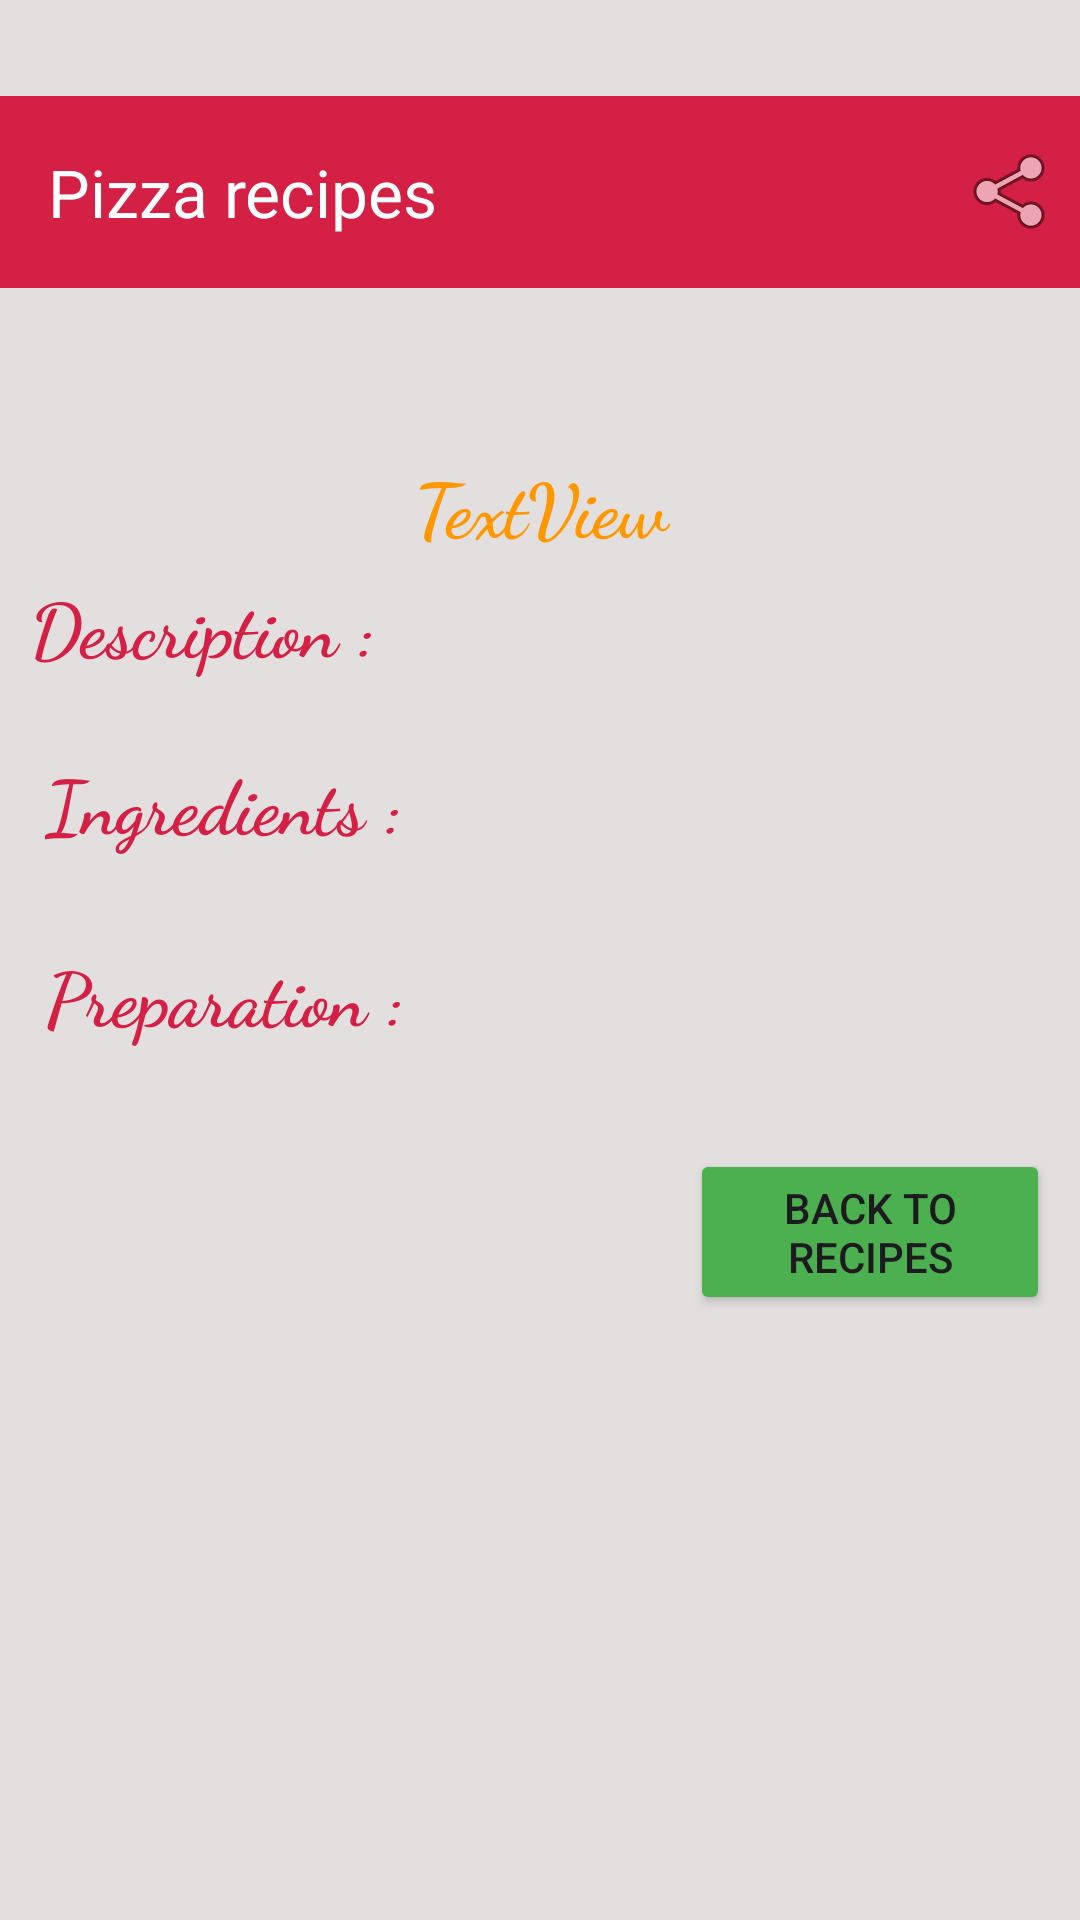

Icon click points for this 1080px×1920px phone screenshot, format point (x, y):
share: point (1009, 191)
